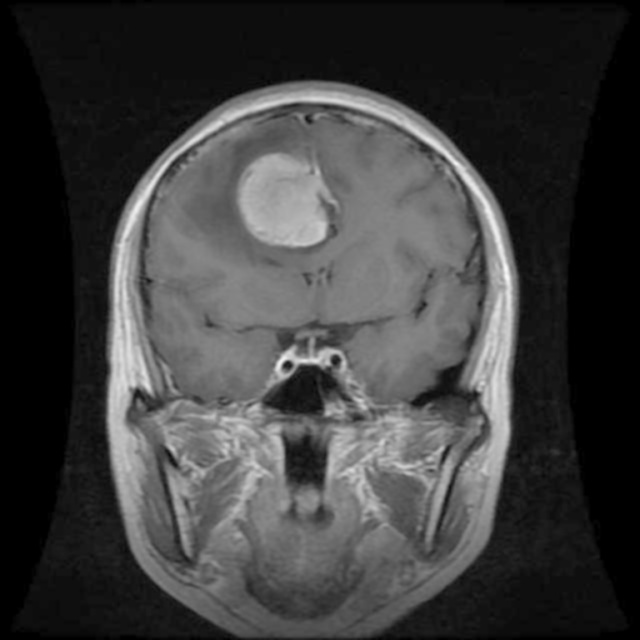meningioma tumor: (214, 135, 346, 259)
